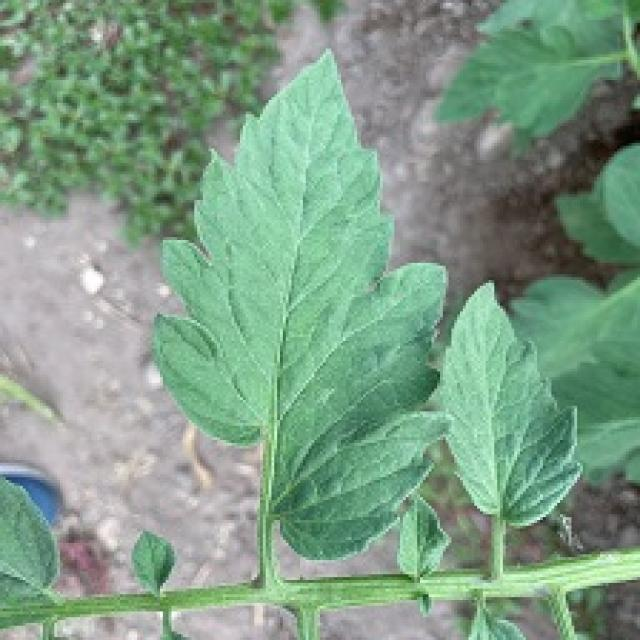Healthy: (70, 49, 534, 593), (389, 273, 611, 542)
